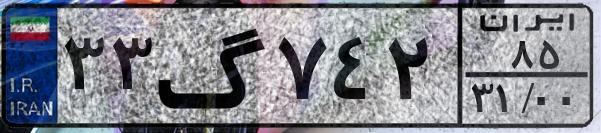0: (560, 70, 590, 125), (535, 70, 560, 125)
1: (495, 70, 520, 125)
2: (385, 28, 445, 110)
3: (57, 26, 110, 100), (110, 28, 156, 98), (470, 70, 495, 125)
4: (330, 28, 385, 110)
5: (537, 27, 568, 80)
7: (270, 28, 330, 110)
8: (508, 27, 537, 80)
گ: (156, 12, 270, 120)
